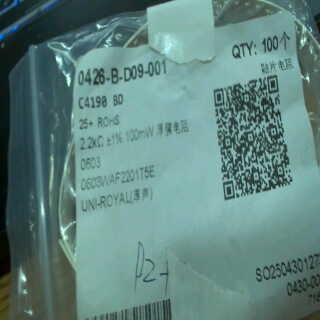2.2kR: (77, 133, 106, 151)
